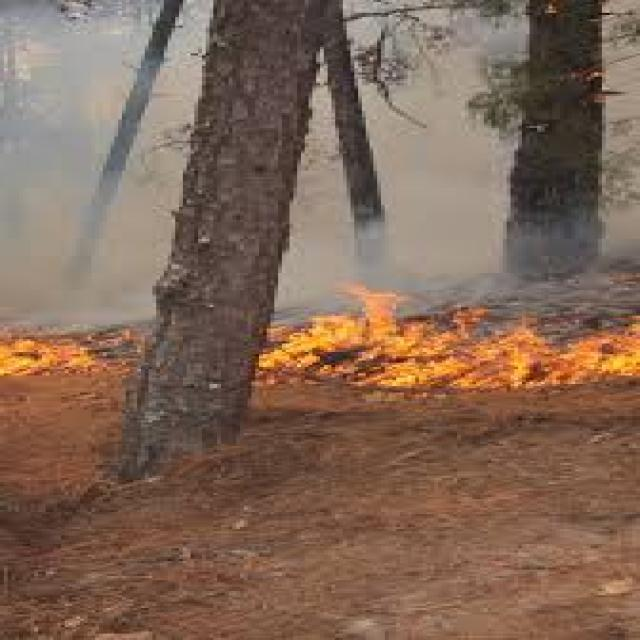Fire: (293, 273, 639, 422), (0, 328, 115, 380)
Smoke: (0, 0, 153, 326)
